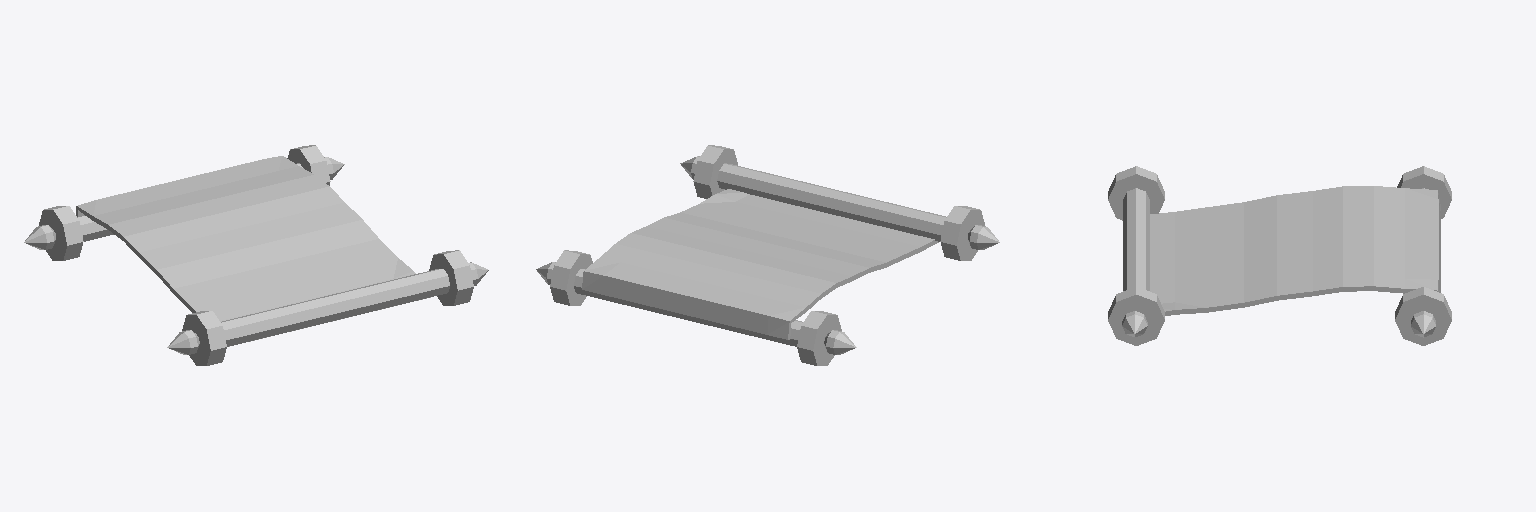
File: scroll.obj
The picture shows the model from 3 angles: view 1: azimuth 30°, elevation 25°; view 2: azimuth 150°, elevation 25°; view 3: azimuth 270°, elevation 25°; orthographic projection.
Parts seen in each view (by area): view 1: scroll pPlane1, scroll pCylinder9, scroll pCylinder6, scroll pCylinder11, pCylinder12 scroll, scroll pCylinder5, scroll pCylinder7, scroll pCylinder10; view 2: scroll pPlane1, scroll pCylinder9, scroll pCylinder11, scroll pCylinder6, scroll pCylinder5, scroll pCylinder4, pCylinder12 scroll, scroll pCylinder7, scroll pCylinder10; view 3: scroll pPlane1, scroll pCylinder9, scroll pCylinder5, pCylinder12 scroll, scroll pCylinder11, scroll pCylinder6.
Boxes of the visible parts, x1=… form: scroll pPlane1: x1=76, y1=156, x2=430, y2=346; scroll pCylinder9: x1=221, y1=269, x2=449, y2=346; scroll pCylinder6: x1=39, y1=206, x2=83, y2=260; scroll pCylinder11: x1=182, y1=311, x2=226, y2=365; pCylinder12 scroll: x1=429, y1=250, x2=473, y2=305; scroll pCylinder5: x1=287, y1=145, x2=330, y2=185; scroll pCylinder7: x1=24, y1=225, x2=55, y2=249; scroll pCylinder10: x1=167, y1=330, x2=199, y2=354; scroll pPlane1: x1=582, y1=189, x2=938, y2=339; scroll pCylinder9: x1=717, y1=163, x2=946, y2=241; scroll pCylinder11: x1=940, y1=206, x2=984, y2=260; scroll pCylinder6: x1=797, y1=311, x2=841, y2=365; scroll pCylinder5: x1=550, y1=250, x2=592, y2=305; scroll pCylinder4: x1=574, y1=269, x2=802, y2=346; pCylinder12 scroll: x1=693, y1=145, x2=737, y2=198; scroll pCylinder7: x1=824, y1=330, x2=856, y2=354; scroll pCylinder10: x1=968, y1=225, x2=999, y2=249; scroll pPlane1: x1=1150, y1=186, x2=1440, y2=315; scroll pCylinder9: x1=1123, y1=188, x2=1149, y2=290; scroll pCylinder5: x1=1395, y1=287, x2=1451, y2=345; pCylinder12 scroll: x1=1108, y1=287, x2=1164, y2=345; scroll pCylinder11: x1=1108, y1=166, x2=1164, y2=220; scroll pCylinder6: x1=1397, y1=166, x2=1451, y2=218.
Size of the model in its own units: 1.1 by 0.17 by 1.02.